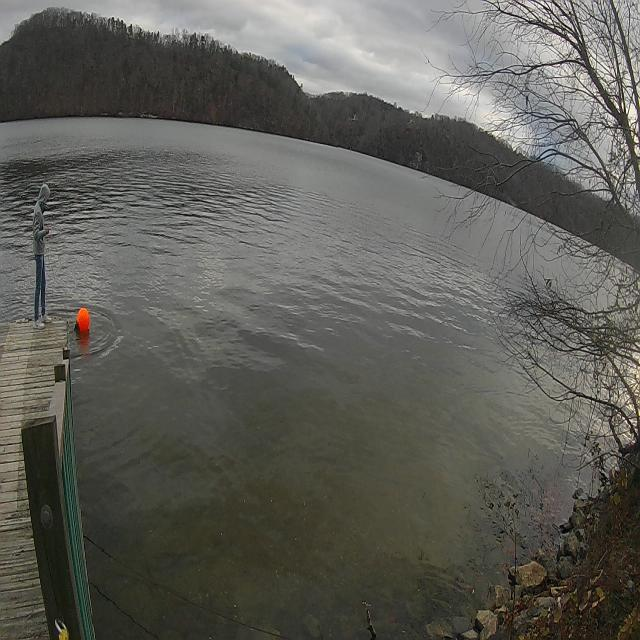Buoy: (74, 306, 90, 334)
